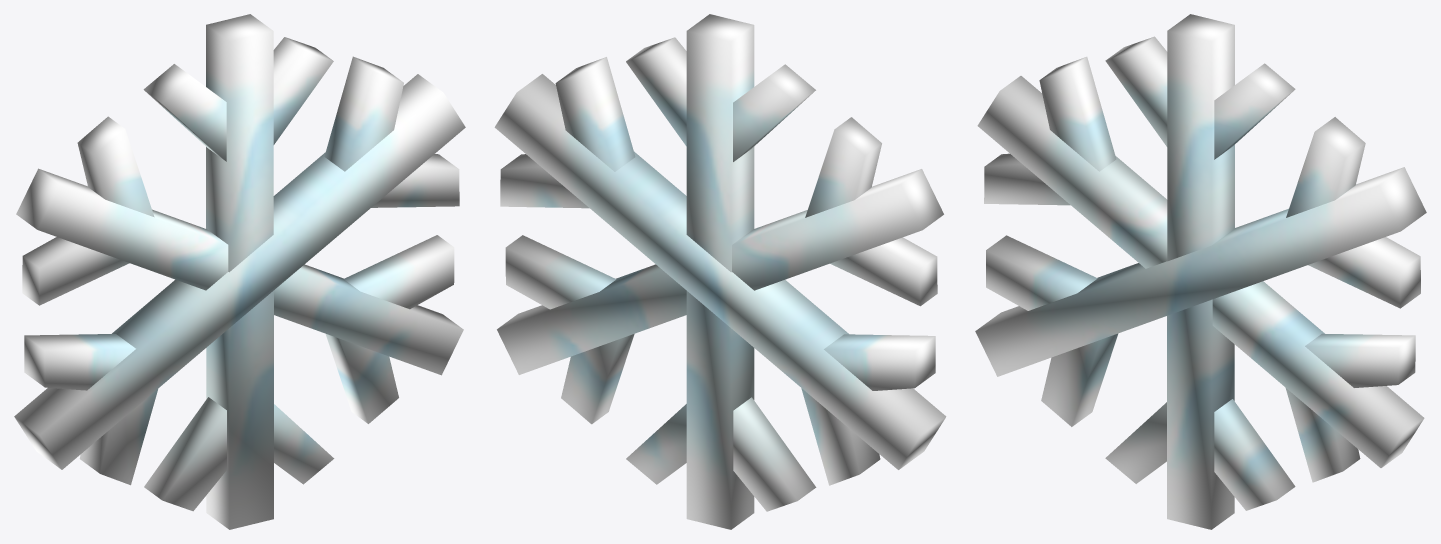
File: Object_Snowflake.FBX
3 views of the same model, side by side, from view 1: azimuth 30°, elevation 25°; view 2: azimuth 150°, elevation 25°; view 3: azimuth 330°, elevation 25° (orthographic).
Visible parts, largest first — view 1: Snowflake; view 2: Snowflake; view 3: Snowflake.
Part boxes in pixels (left/top/right/bottom): Snowflake: left=14, top=14, right=465, bottom=529; Snowflake: left=494, top=14, right=946, bottom=529; Snowflake: left=975, top=14, right=1426, bottom=529.
Size of the model in its own units: 11.4 by 12.48 by 1.19.
